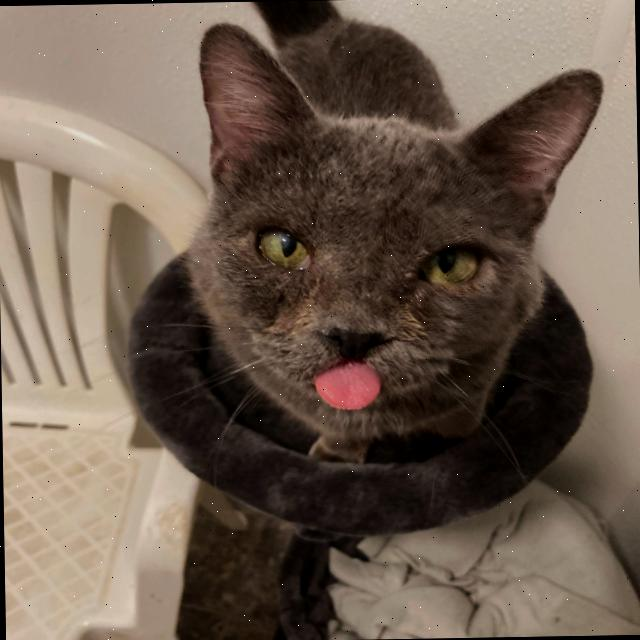russian_blue_cat: (176, 10, 614, 463)
